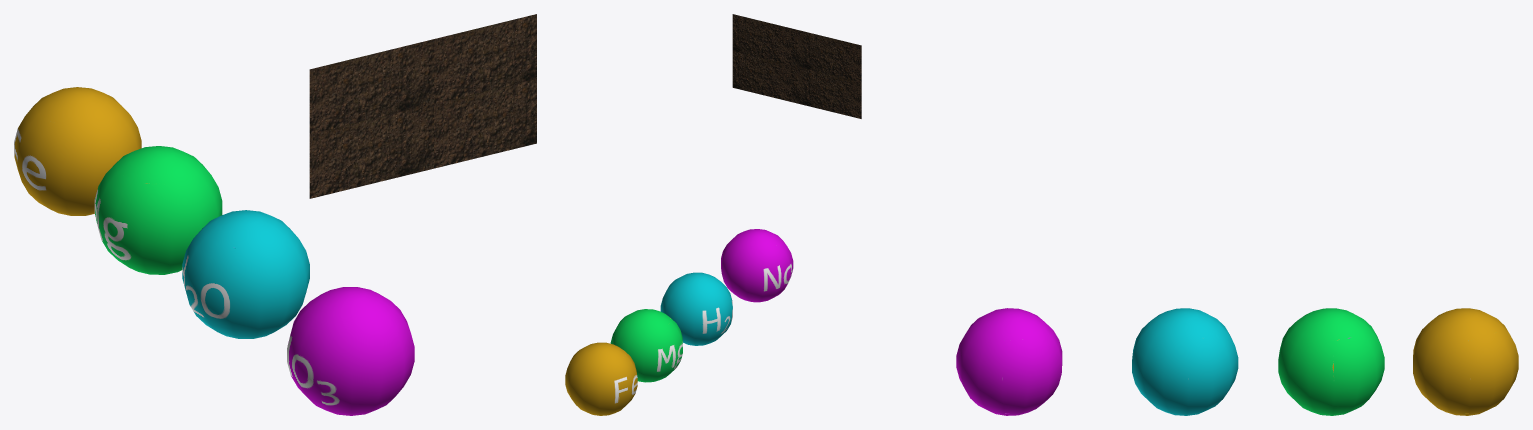
Rendered from min ans soils.fbx.
3 renders of one model, left to right at view 1: azimuth 30°, elevation 25°; view 2: azimuth 150°, elevation 25°; view 3: azimuth 270°, elevation 25°, orthographic. The views are drawn at different scales.
Visible parts, largest first — view 1: mud, no3, h2o, mg, fe; view 2: mud, fe, no3, h2o, mg; view 3: no3, h2o, mg, fe.
Part boxes in pixels (box(x1,y1,x2,y2)): mud: box(309, 14, 536, 198); no3: box(287, 287, 414, 415); h2o: box(182, 210, 309, 338); mg: box(94, 146, 222, 274); fe: box(14, 87, 141, 215); mud: box(732, 14, 861, 118); fe: box(565, 342, 637, 415); no3: box(721, 229, 793, 302); h2o: box(660, 272, 732, 345); mg: box(610, 309, 682, 382); no3: box(956, 308, 1062, 415); h2o: box(1132, 308, 1238, 415); mg: box(1278, 308, 1384, 415); fe: box(1413, 308, 1518, 415).
Bounding box in the file's own units: 201 × 356 × 578.
2 materials, 2 textured.
